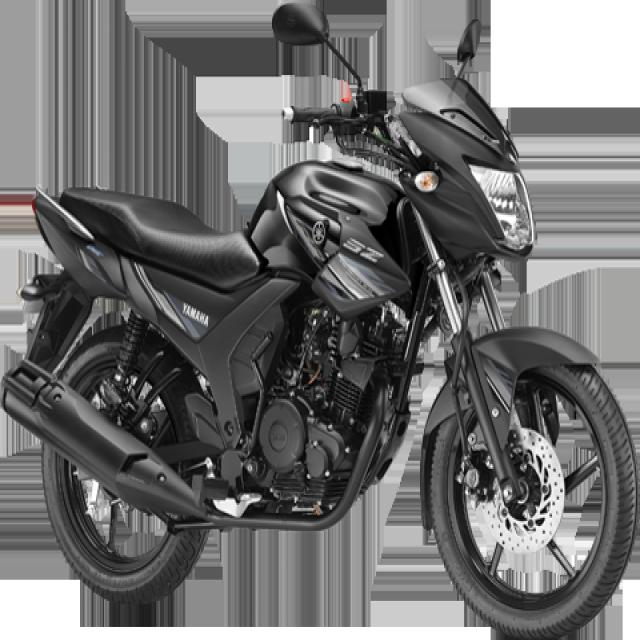MOTORCYCLE: (4, 18, 638, 626)
